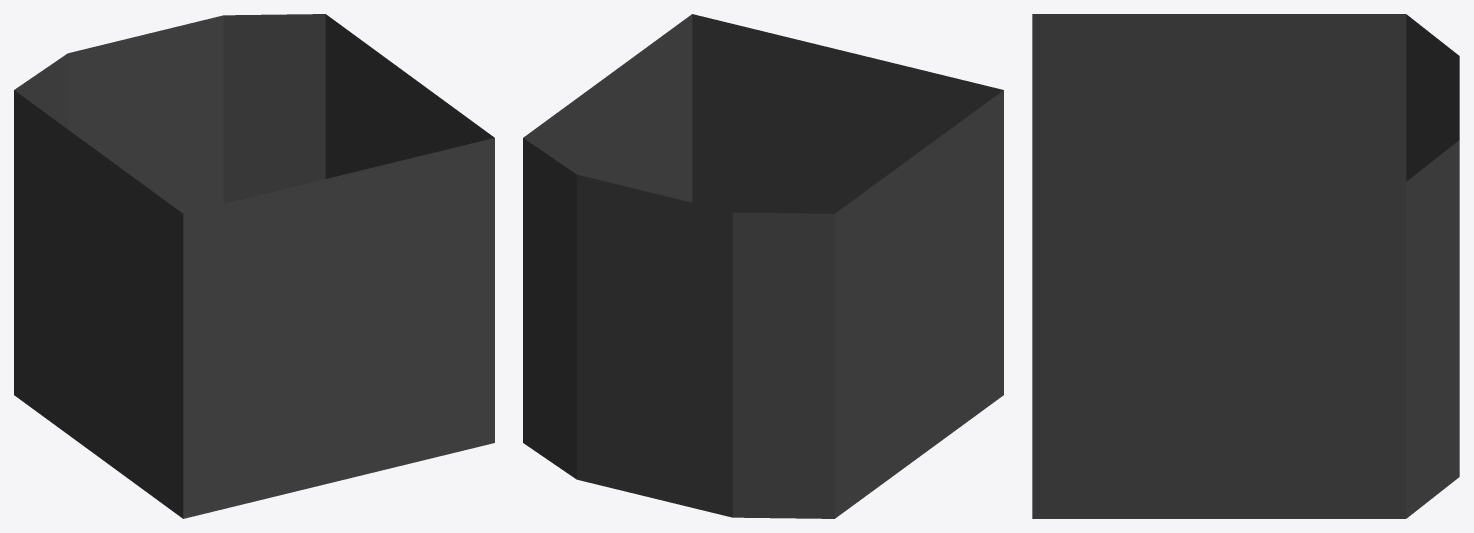
Rendered from Lift_02_Shaft.fbx.
3 views of the same model, side by side, from view 1: azimuth 30°, elevation 25°; view 2: azimuth 150°, elevation 25°; view 3: azimuth 270°, elevation 25° (orthographic). The views are drawn at different scales.
Visible parts, largest first — view 1: Lift_02_Shaft; view 2: Lift_02_Shaft; view 3: Lift_02_Shaft.
Boxes of the visible parts, x1,y1,x2,y2 form: Lift_02_Shaft: [14, 14, 494, 518]; Lift_02_Shaft: [523, 14, 1003, 518]; Lift_02_Shaft: [1032, 14, 1459, 518].
Size of the model in its own units: 1389 by 1300 by 1493.
